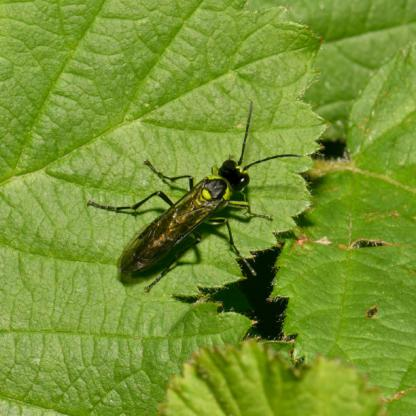sawfly: (82, 100, 307, 296)
